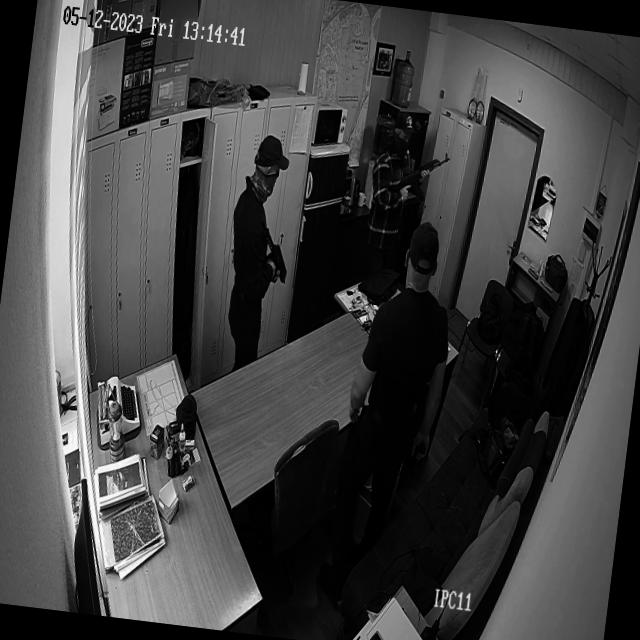gun: (396, 146, 452, 202), (252, 214, 293, 284), (406, 426, 438, 477)
person with a gun: (337, 218, 461, 552), (218, 130, 286, 360), (361, 112, 418, 274)
